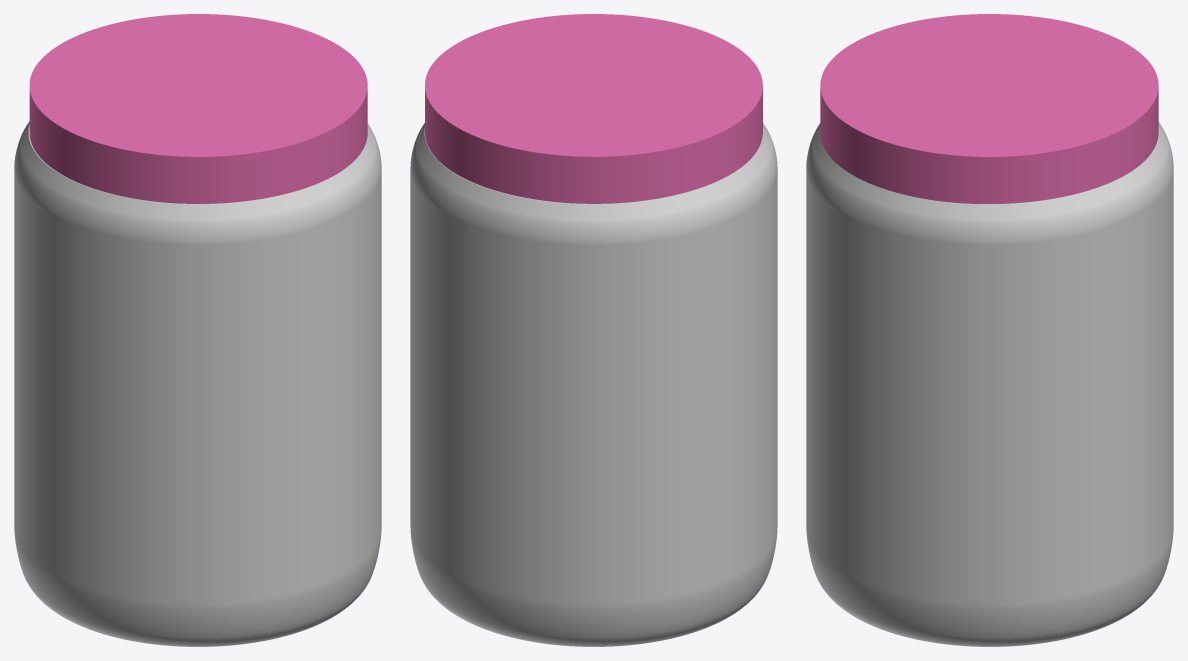
File: Einkaufsladen_Füllmaterial_Schraubdose_Groß_Variante_1_Base_Überprüft.fbx
3 views of the same model, side by side, from view 1: azimuth 30°, elevation 25°; view 2: azimuth 150°, elevation 25°; view 3: azimuth 270°, elevation 25° (orthographic).
Parts seen in each view (by area): view 1: Cylinder.009, Cylinder.010; view 2: Cylinder.009, Cylinder.010; view 3: Cylinder.009, Cylinder.010.
Part boxes in pixels (left/top/right/bottom): Cylinder.009: left=14, top=121, right=381, bottom=646; Cylinder.010: left=29, top=14, right=367, bottom=203; Cylinder.009: left=410, top=123, right=777, bottom=646; Cylinder.010: left=425, top=14, right=762, bottom=203; Cylinder.009: left=806, top=122, right=1173, bottom=646; Cylinder.010: left=820, top=14, right=1158, bottom=203.
Bounding box in the file's own units: 972 × 1444 × 972.
